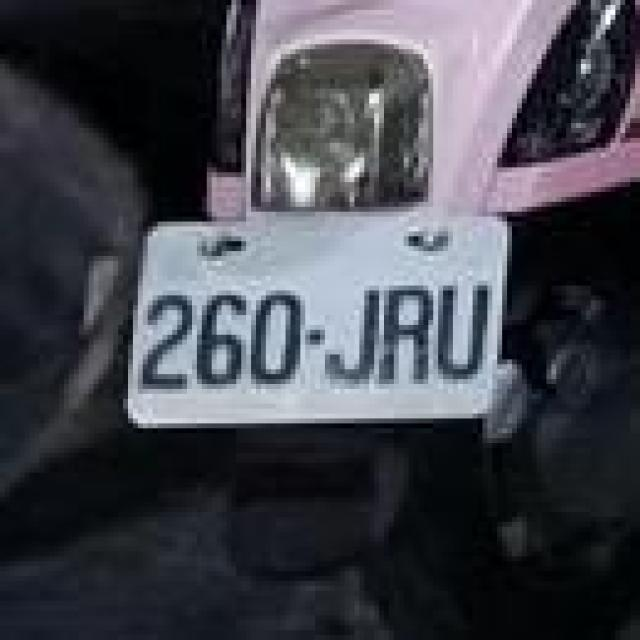W: (118, 167, 532, 453)
